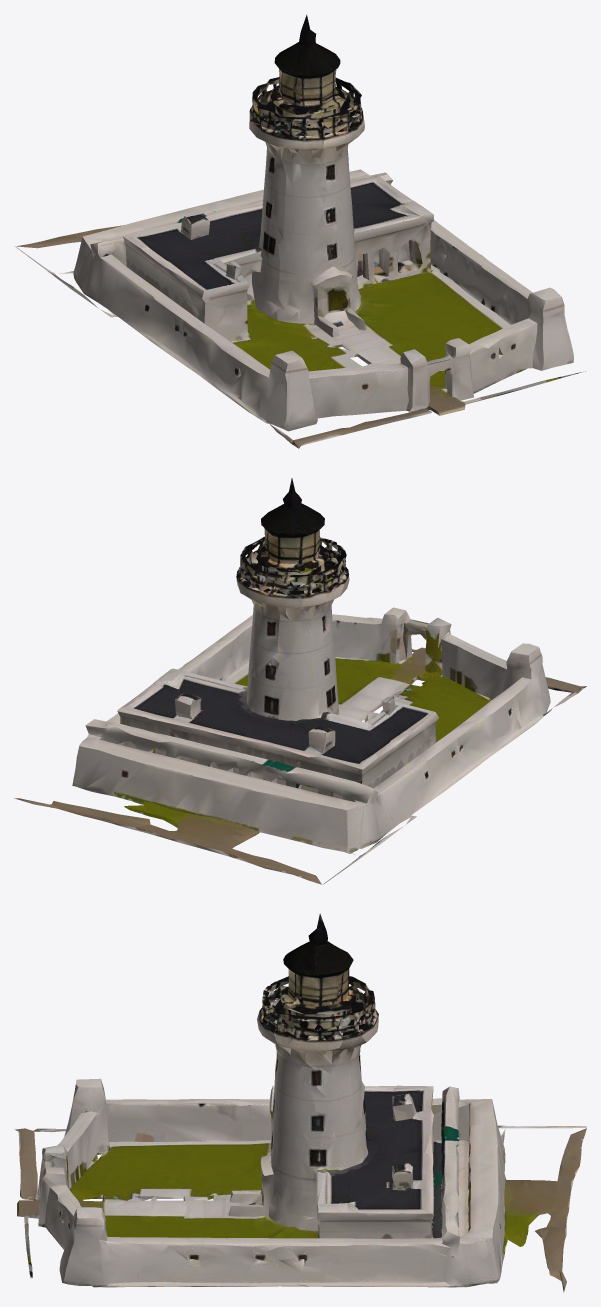
The model's file is eluanbi-lighthouse.glb.
The picture shows the model from 3 angles, top to bottom: view 1: azimuth 30°, elevation 25°; view 2: azimuth 150°, elevation 25°; view 3: azimuth 270°, elevation 25°; orthographic projection. The views are drawn at different scales.
Parts seen in each view (by area): view 1: logan-textured.obj; view 2: logan-textured.obj; view 3: logan-textured.obj.
Part boxes in pixels (x1=…): logan-textured.obj: x1=14, y1=14, x2=585, y2=448; logan-textured.obj: x1=14, y1=478, x2=586, y2=884; logan-textured.obj: x1=14, y1=913, x2=586, y2=1292.
Size of the model in its own units: 0.6886 by 0.5789 by 1.
1 material, 1 textured.
